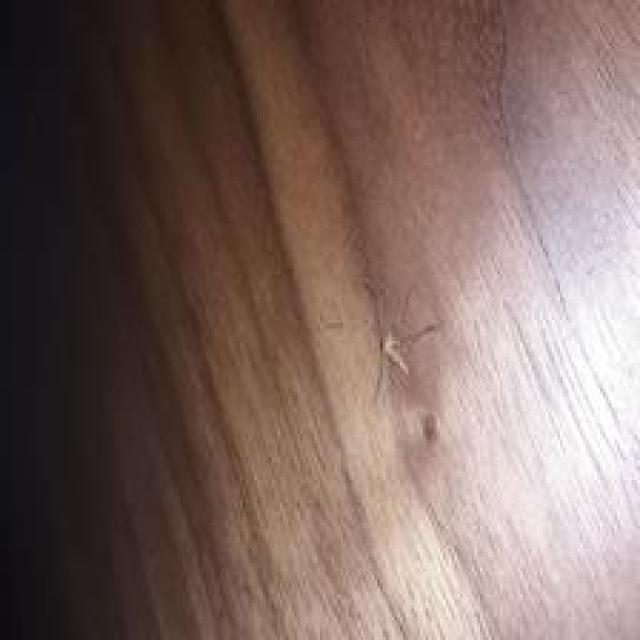Culex: (53, 0, 638, 640)
